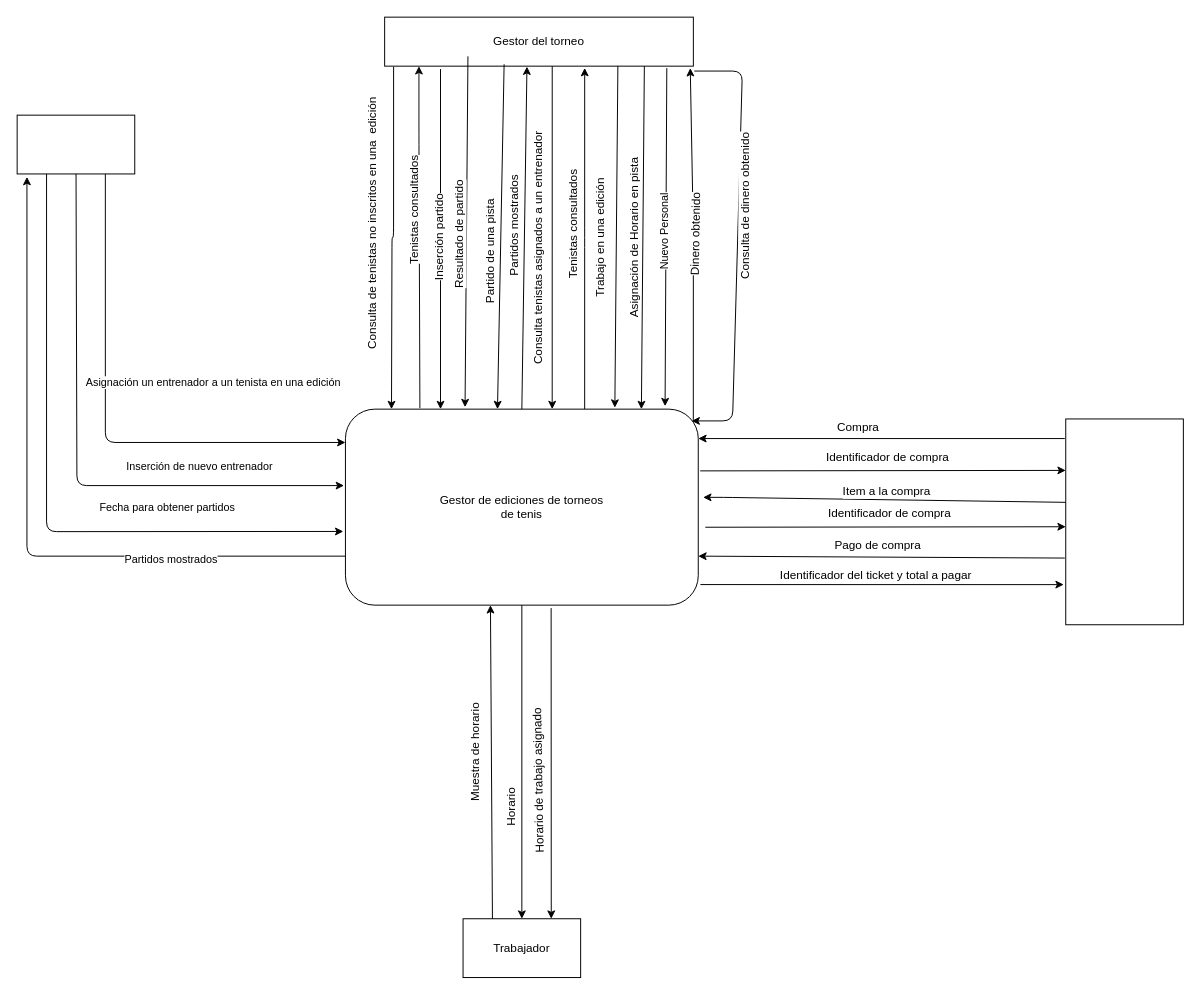
This 1201x995 diagram has some shape labels left out. The shapes that lost their labels are listed below. From the top down, each one's centre as x and y in pixels, then its label:
At pixel 75 144: "Entrenador".
At pixel 1124 521: "Cliente".
